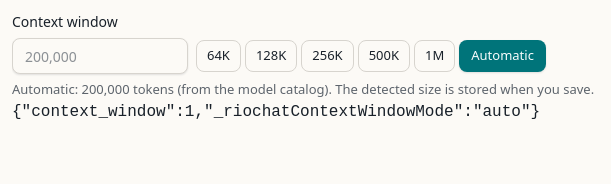
Test: WindowField › commits a typed value on Enter with grouped digits and no automatic marker
Step 1. Type "65536" into the field named "Context window" → x=100, y=56, box [12,38,188,74]
Then press Enter
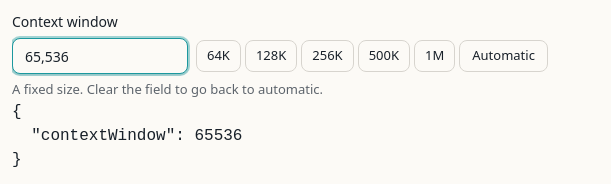
expect the field named "Context window" holds "65,536": met, box [12,38,188,74]
